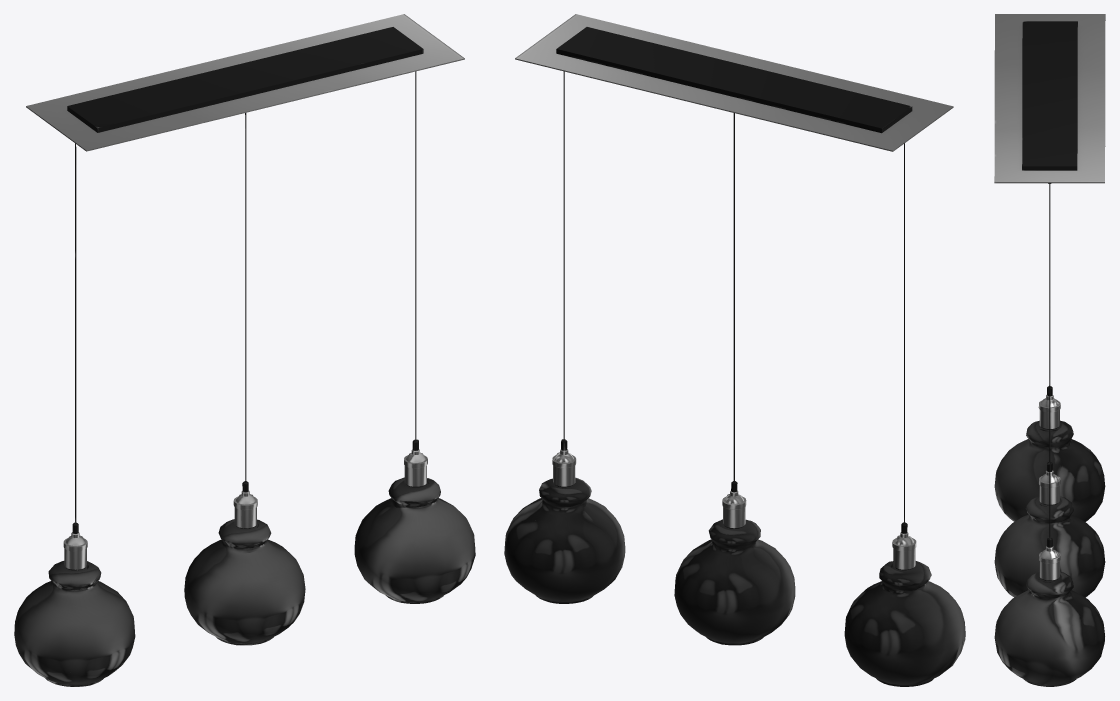
File: raw_model.obj
3 views of the same model, side by side, from view 1: azimuth 30°, elevation 25°; view 2: azimuth 150°, elevation 25°; view 3: azimuth 270°, elevation 25° (orthographic). The views are drawn at different scales.
Parts seen in each view (by area): view 1: glass_001, solid_001, solid_002; view 2: glass_001, solid_001, solid_002; view 3: glass_001, solid_001, solid_002.
Part boxes in pixels (<box>): glass_001: <box>14,477,475,686</box>; solid_001: <box>26,14,464,569</box>; solid_002: <box>66,27,429,570</box>; glass_001: <box>504,477,965,686</box>; solid_001: <box>515,14,953,569</box>; solid_002: <box>551,27,912,570</box>; glass_001: <box>994,420,1105,686</box>; solid_001: <box>994,14,1105,580</box>; solid_002: <box>1022,21,1077,582</box>.
Bounding box in the file's own units: 0.8477 × 1.01 × 0.2008.
1 material, 1 textured.
